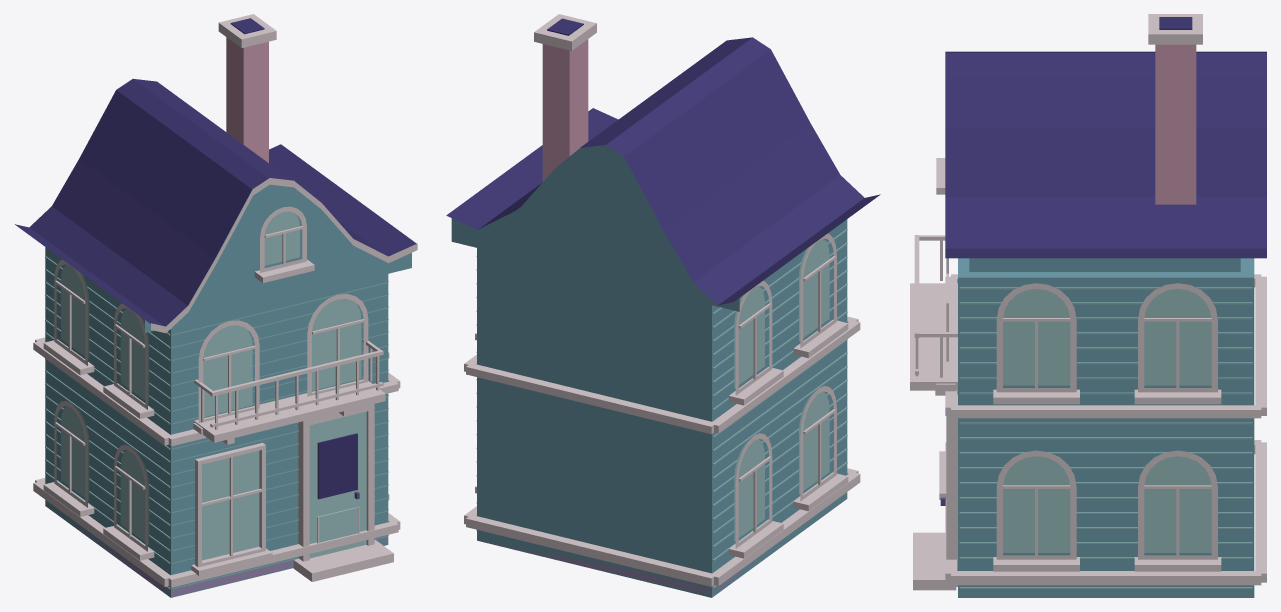
Rendered from blue-gable.glb.
The picture shows the model from 3 angles, left to right: view 1: azimuth 30°, elevation 25°; view 2: azimuth 150°, elevation 25°; view 3: azimuth 270°, elevation 25°; orthographic projection. The views are drawn at different scales.
Visible parts, largest first — view 1: scenery; view 2: scenery; view 3: scenery.
Boxes of the visible parts, x1,y1,x2,y2 form: scenery: (15,14,417,597); scenery: (446,14,880,597); scenery: (910,14,1266,597).
Size of the model in its own units: 3.19 by 5.3 by 3.13.
